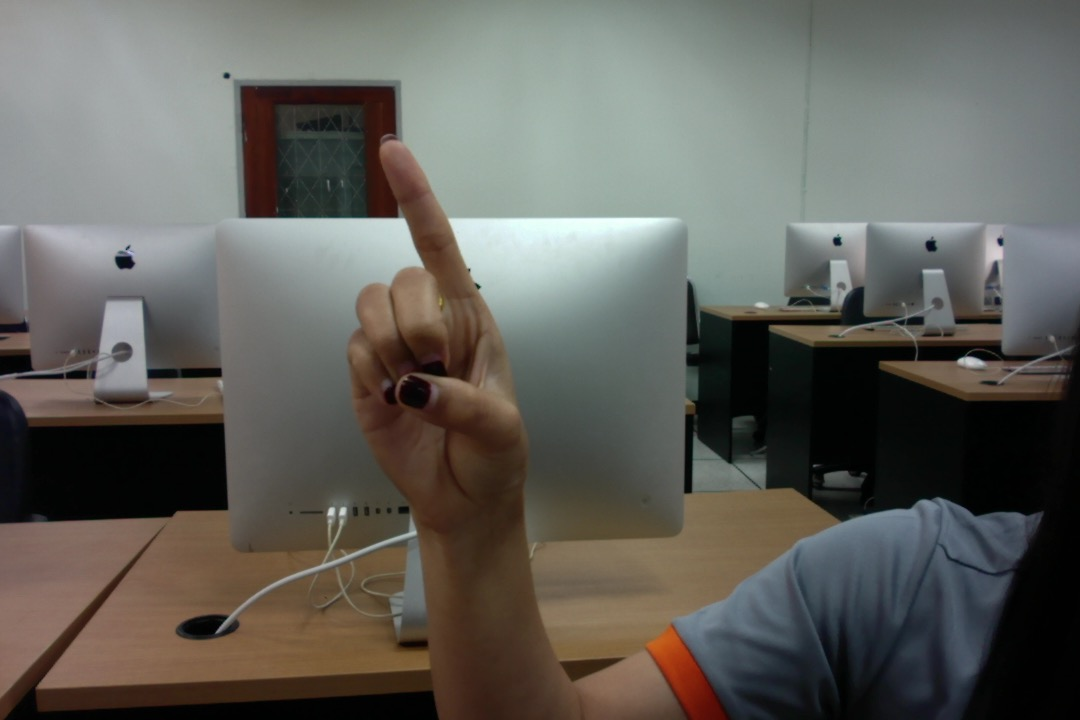dor: (324, 116, 535, 551)
